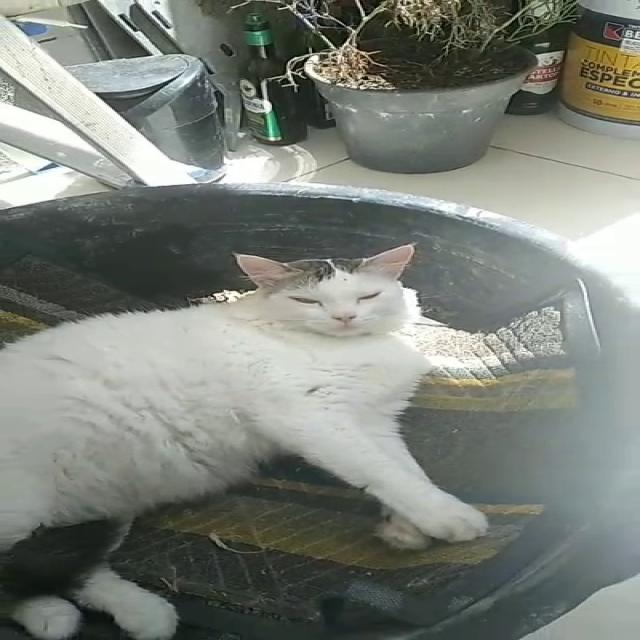Simba: (0, 211, 518, 639)
